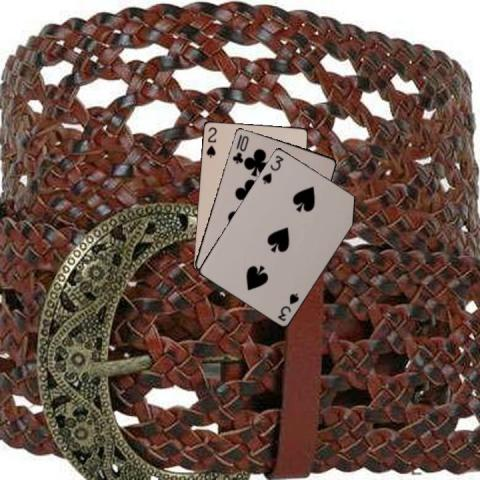10c: (229, 132, 250, 166)
2s: (203, 124, 218, 159)
3s: (259, 152, 285, 185), (274, 290, 300, 323)
